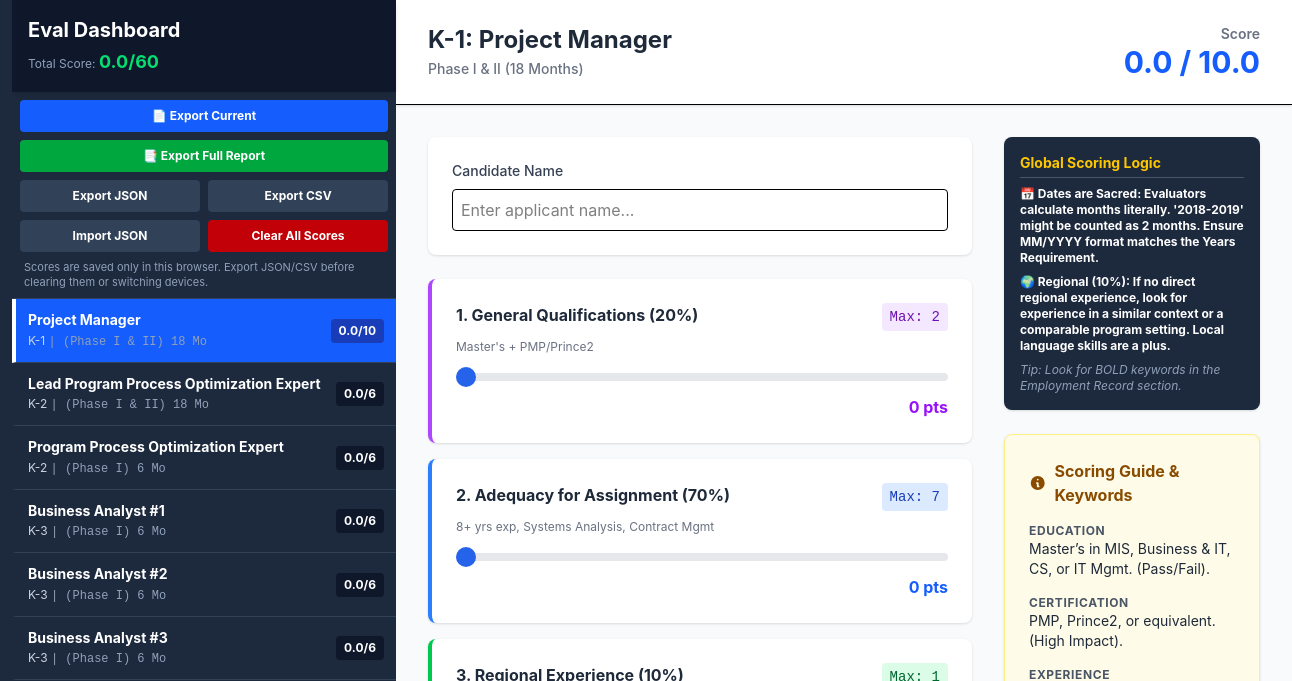
Test: App › updates the score when a slider moves and persists it
Set the slider named "General Qualifications score, 0 to 2" below "Master's + PMP/Prince2" to "1.5" at (821, 377), box x1=456 y1=373 x2=948 y2=381
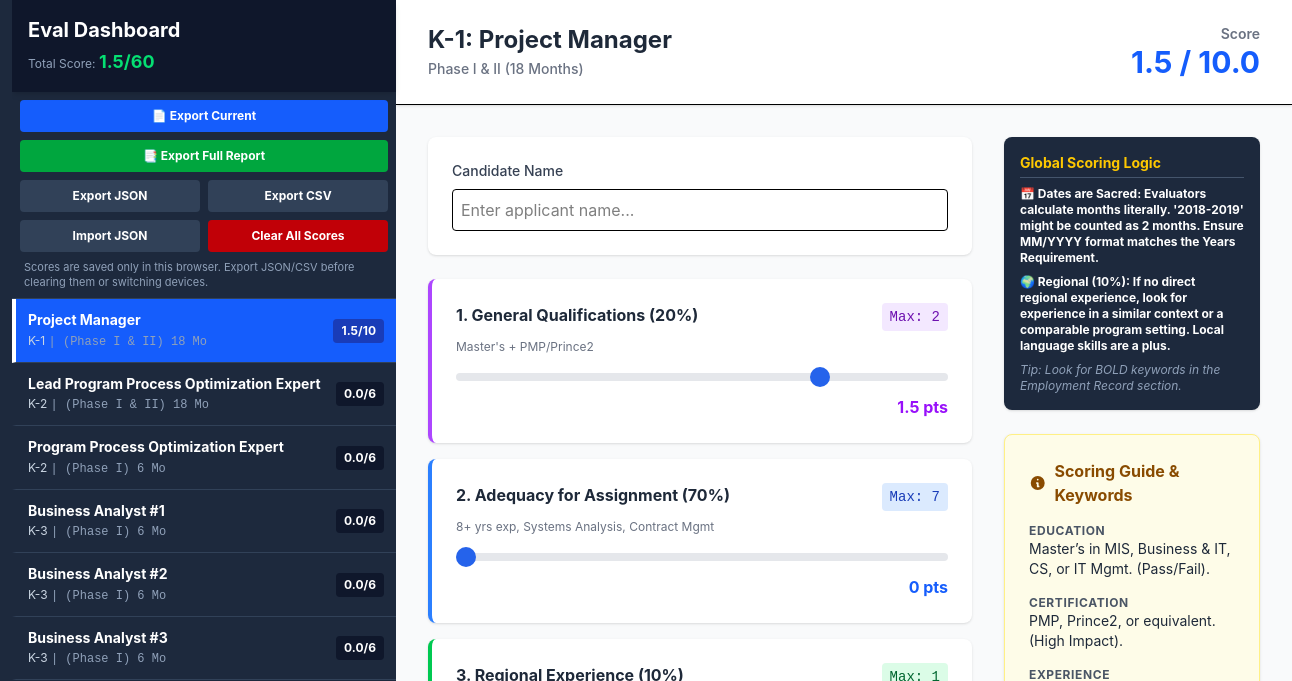
Check: the text "1.5 pts" is shown, box x1=897 y1=397 x2=948 y2=417
